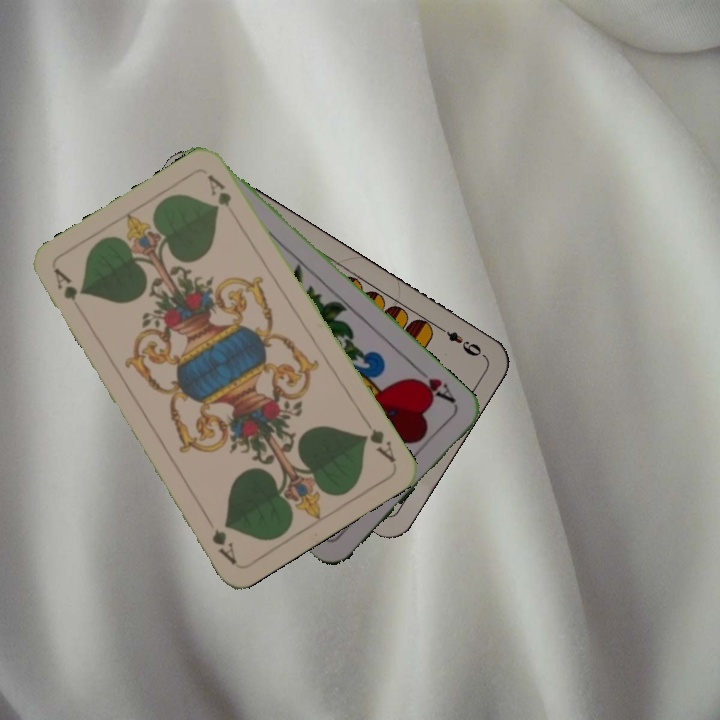E9: (434, 322, 487, 360)
GA: (359, 414, 399, 466), (50, 264, 81, 304)
HA: (408, 363, 459, 408)
